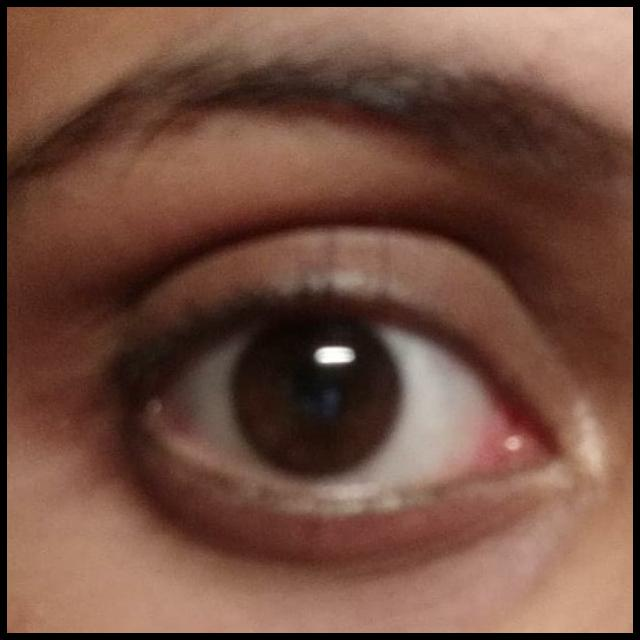eye: (162, 307, 507, 494)
iris: (232, 317, 402, 482)
